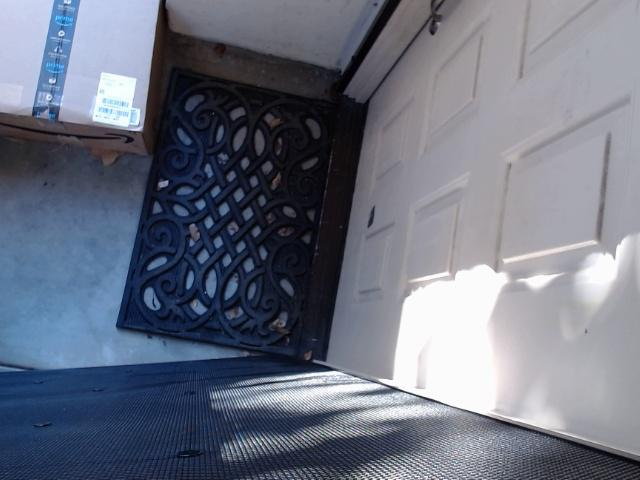box: (0, 0, 194, 178)
